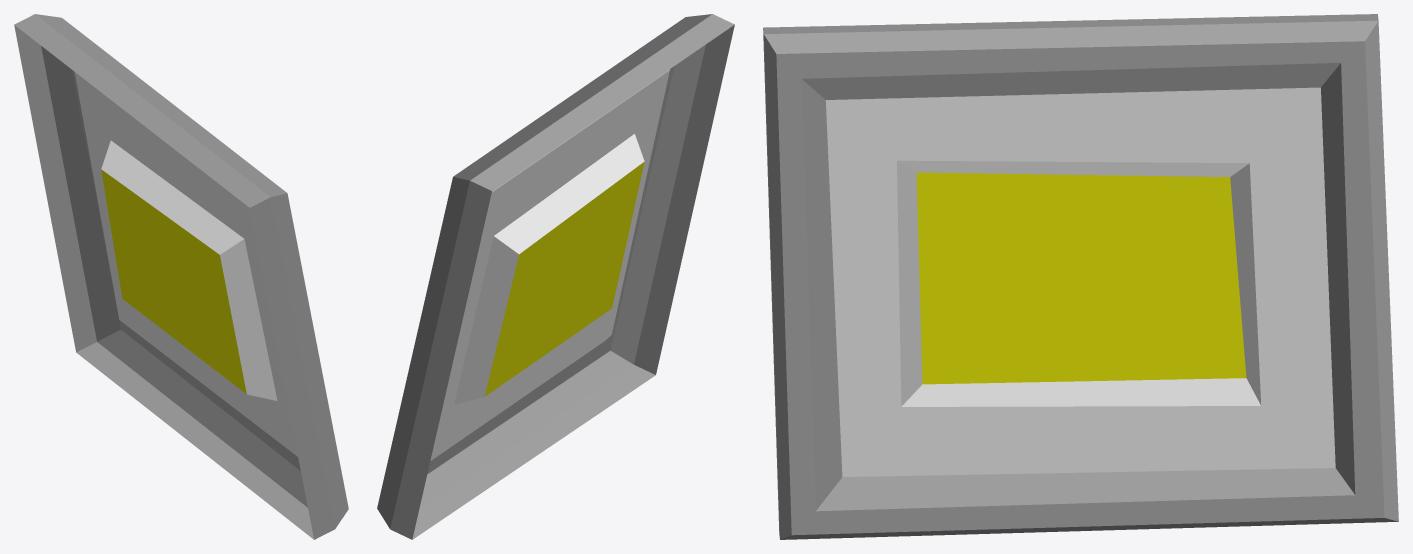
Rendered from FrameHorisontal.fbx.
3 views of the same model, side by side, from view 1: azimuth 30°, elevation 25°; view 2: azimuth 150°, elevation 25°; view 3: azimuth 270°, elevation 25° (orthographic). The views are drawn at different scales.
Visible parts, largest first — view 1: FrameHorisontal; view 2: FrameHorisontal; view 3: FrameHorisontal.
Part boxes in pixels (box(x1,y1,x2,y2)): FrameHorisontal: box(14, 14, 348, 539); FrameHorisontal: box(377, 14, 734, 539); FrameHorisontal: box(763, 14, 1398, 539).
Size of the model in its own units: 9.38 by 30.09 by 36.02.
